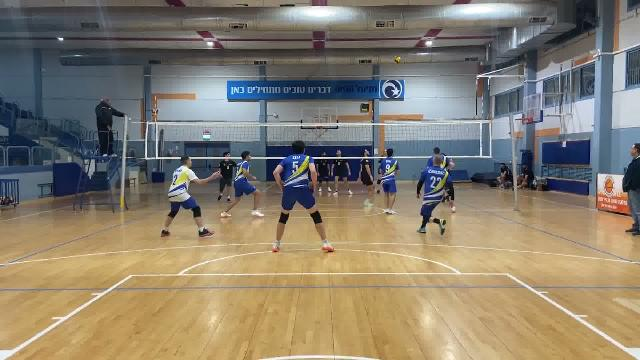ball: (392, 56, 402, 65)
